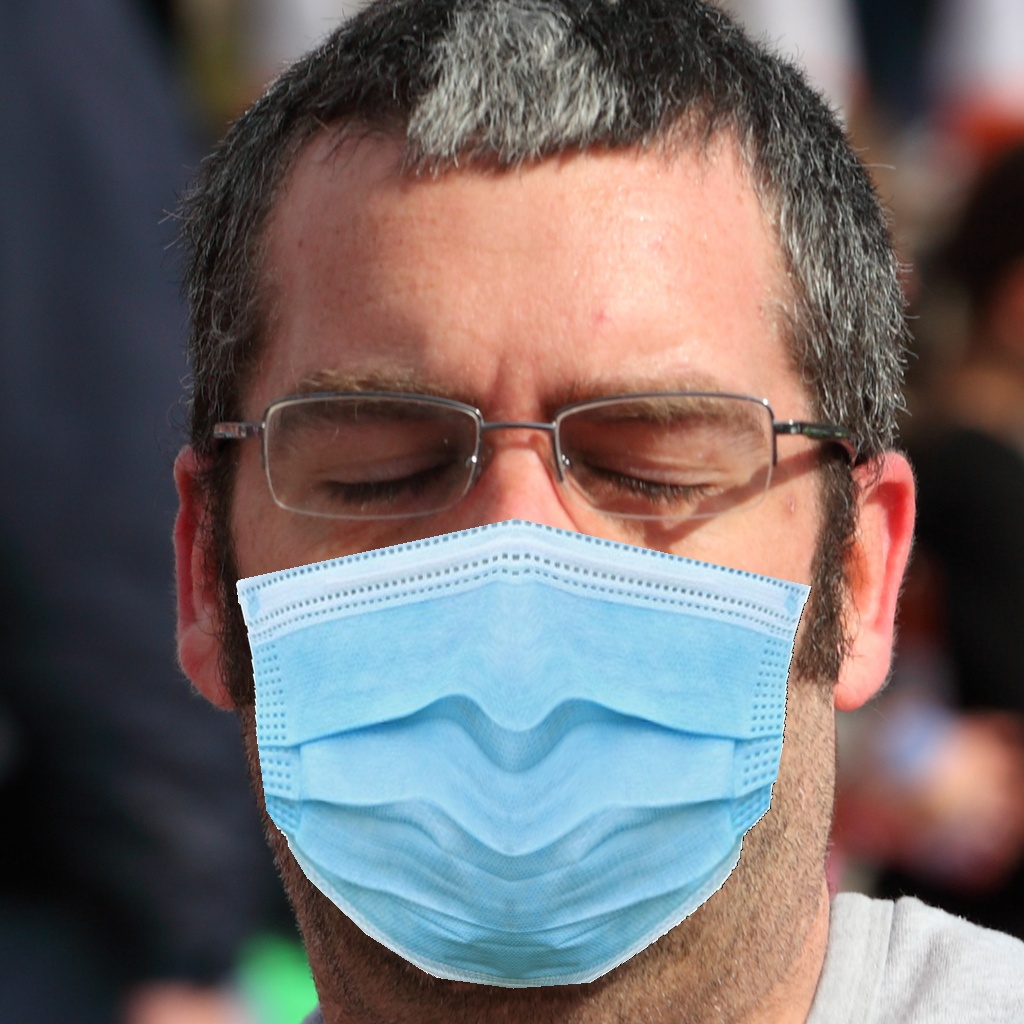Mask: (231, 349, 810, 987)
